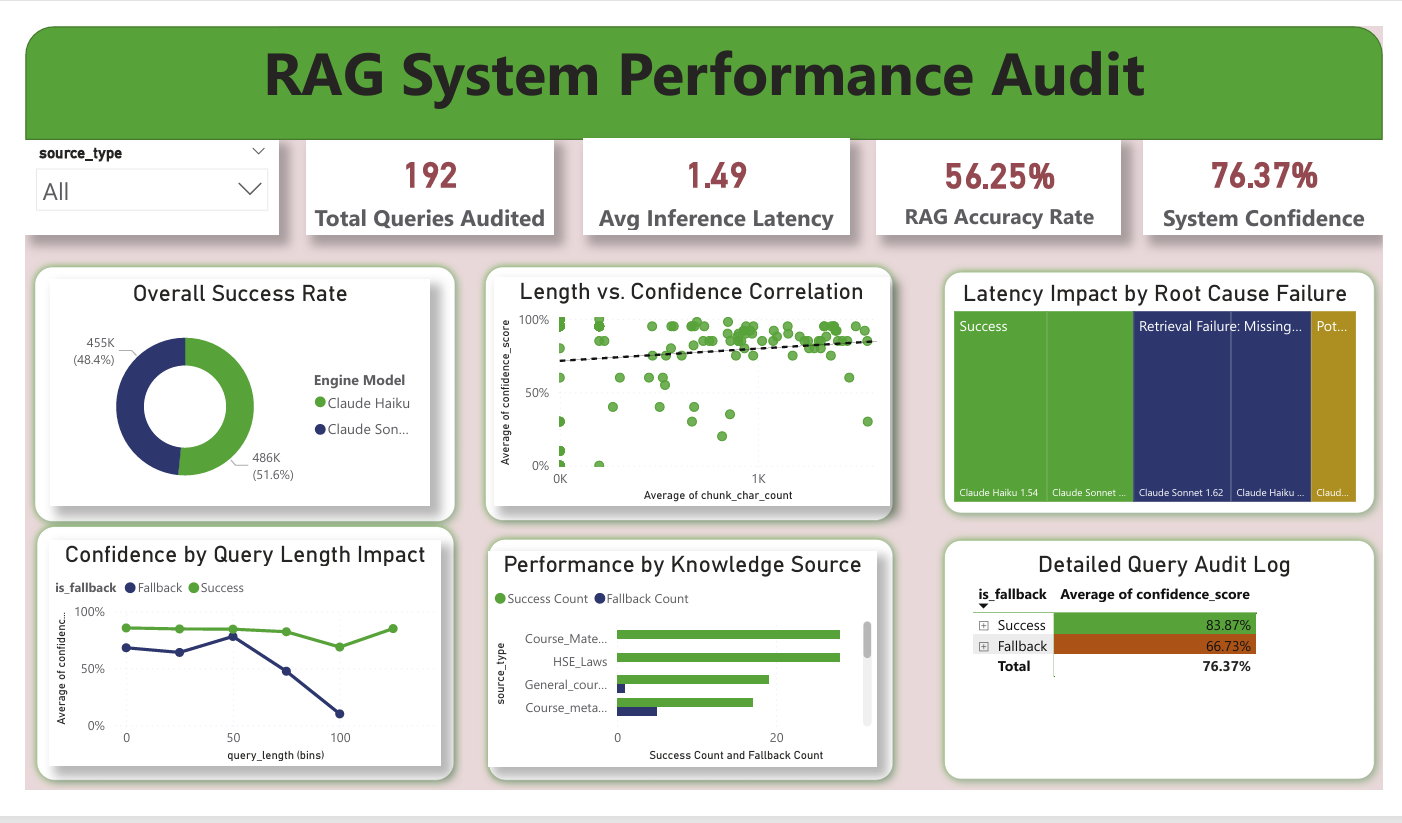

This screenshot's page, from the dashboard's own definition file:
{"tool":"powerbi","page":{"name":"Page 1","canvas":[1280,720],"ordinal":0},"visuals":[{"type":"textbox","box":[0,0,238.6,87.5],"z":0},{"type":"slicer","fields":{"Values":["power_bi.source_type"]},"box":[0,106.5,238.7,90.3],"z":1000},{"type":"card","fields":{"Values":["power_bi.Total Queries Audited"]},"box":[264.5,106.5,233.9,90.3],"z":2000},{"type":"card","fields":{"Values":["power_bi.RAG Accuracy Rate"]},"box":[803.2,106.5,230.6,90.3],"z":3000},{"type":"card","fields":{"Values":["Avg(power_bi.confidence_score)"]},"box":[1054.8,106.5,225.8,90.3],"z":4000},{"type":"shape","box":[0,0,1280.4,106.6],"z":5000},{"type":"textbox","box":[0,0,1280.4,106.6],"z":6000},{"type":"shape","box":[425,218.3,401.7,256.7],"z":7000},{"type":"shape","box":[0,217.9,413.6,257.7],"z":8000},{"type":"shape","box":[1.7,463.3,411.7,256.7],"z":9000},{"type":"donutChart","title":"Overall Success Rate","fields":{"Category":["power_bi.Model_used"],"Y":["power_bi.Total Tokens Traded"]},"box":[23.9,238.6,357.9,214.7],"z":10000},{"type":"shape","box":[858.1,475.8,422.6,243.5],"z":11000},{"type":"scatterChart","title":"Length vs. Confidence Correlation","fields":{"Y":["Avg(power_bi.confidence_score)"],"Category":["power_bi.final_query_clean"],"X":["Avg(power_bi.chunk_char_count)"]},"box":[441.7,236.7,373.3,216.7],"z":12000},{"type":"lineChart","title":"Confidence by Query Length Impact","fields":{"Y":["Avg(power_bi.confidence_score)"],"Series":["power_bi.is_fallback"],"Category":["power_bi.query_length (bins)"]},"box":[23.3,485,368.3,213.3],"z":13000},{"type":"shape","box":[428.3,475,398.3,245],"z":14000},{"type":"shape","box":[858.1,222.6,422.6,245.2],"z":15000},{"type":"pivotTable","title":"Detailed Query Audit Log","fields":{"Rows":["power_bi.is_fallback","power_bi.final_query_clean"],"Values":["Avg(power_bi.confidence_score)"]},"box":[888.7,495.2,371,203.2],"z":16000},{"type":"clusteredBarChart","title":"Performance by Knowledge Source","fields":{"Category":["power_bi.source_type"],"Y":["power_bi.Success Count","power_bi.Fallback Count"]},"box":[437.4,494.7,365.8,203.6],"z":17000},{"type":"card","title":"Latency Impact by Root Cause Failure","fields":{"Values":["Avg(power_bi.Execution_time)"]},"box":[525.8,106.5,251.6,90.3],"z":18000},{"type":"treemap","title":"Latency Impact by Root Cause Failure","fields":{"Group":["power_bi.root_cause"],"Details":["power_bi.Model_used"],"Values":["Avg(power_bi.Execution_time)"]},"box":[871,238.7,388.7,214.5],"z":18001}]}

Visuals, with their boxes in screenshot pixels (x1, y1, x2, y2):
textbox: BBox(0, 22, 250, 116)
slicer - power_bi.source_type: BBox(0, 137, 251, 234)
card - power_bi.Total Queries Audited: BBox(278, 137, 531, 234)
card - power_bi.RAG Accuracy Rate: BBox(860, 137, 1109, 234)
card - Avg(power_bi.confidence_score): BBox(1132, 137, 1376, 234)
shape: BBox(0, 22, 1376, 137)
textbox: BBox(0, 22, 1376, 137)
shape: BBox(452, 258, 886, 535)
shape: BBox(0, 257, 439, 536)
shape: BBox(0, 522, 439, 800)
"Overall Success Rate" donutChart: BBox(19, 280, 405, 512)
shape: BBox(920, 536, 1376, 799)
"Length vs. Confidence Correlation" scatterChart: BBox(470, 278, 873, 512)
"Confidence by Query Length Impact" lineChart: BBox(18, 546, 416, 776)
shape: BBox(455, 535, 886, 800)
shape: BBox(920, 262, 1376, 527)
"Detailed Query Audit Log" pivotTable: BBox(953, 557, 1353, 776)
"Performance by Knowledge Source" clusteredBarChart: BBox(465, 556, 860, 776)
"Latency Impact by Root Cause Failure" card: BBox(561, 137, 832, 234)
"Latency Impact by Root Cause Failure" treemap: BBox(934, 280, 1353, 511)
